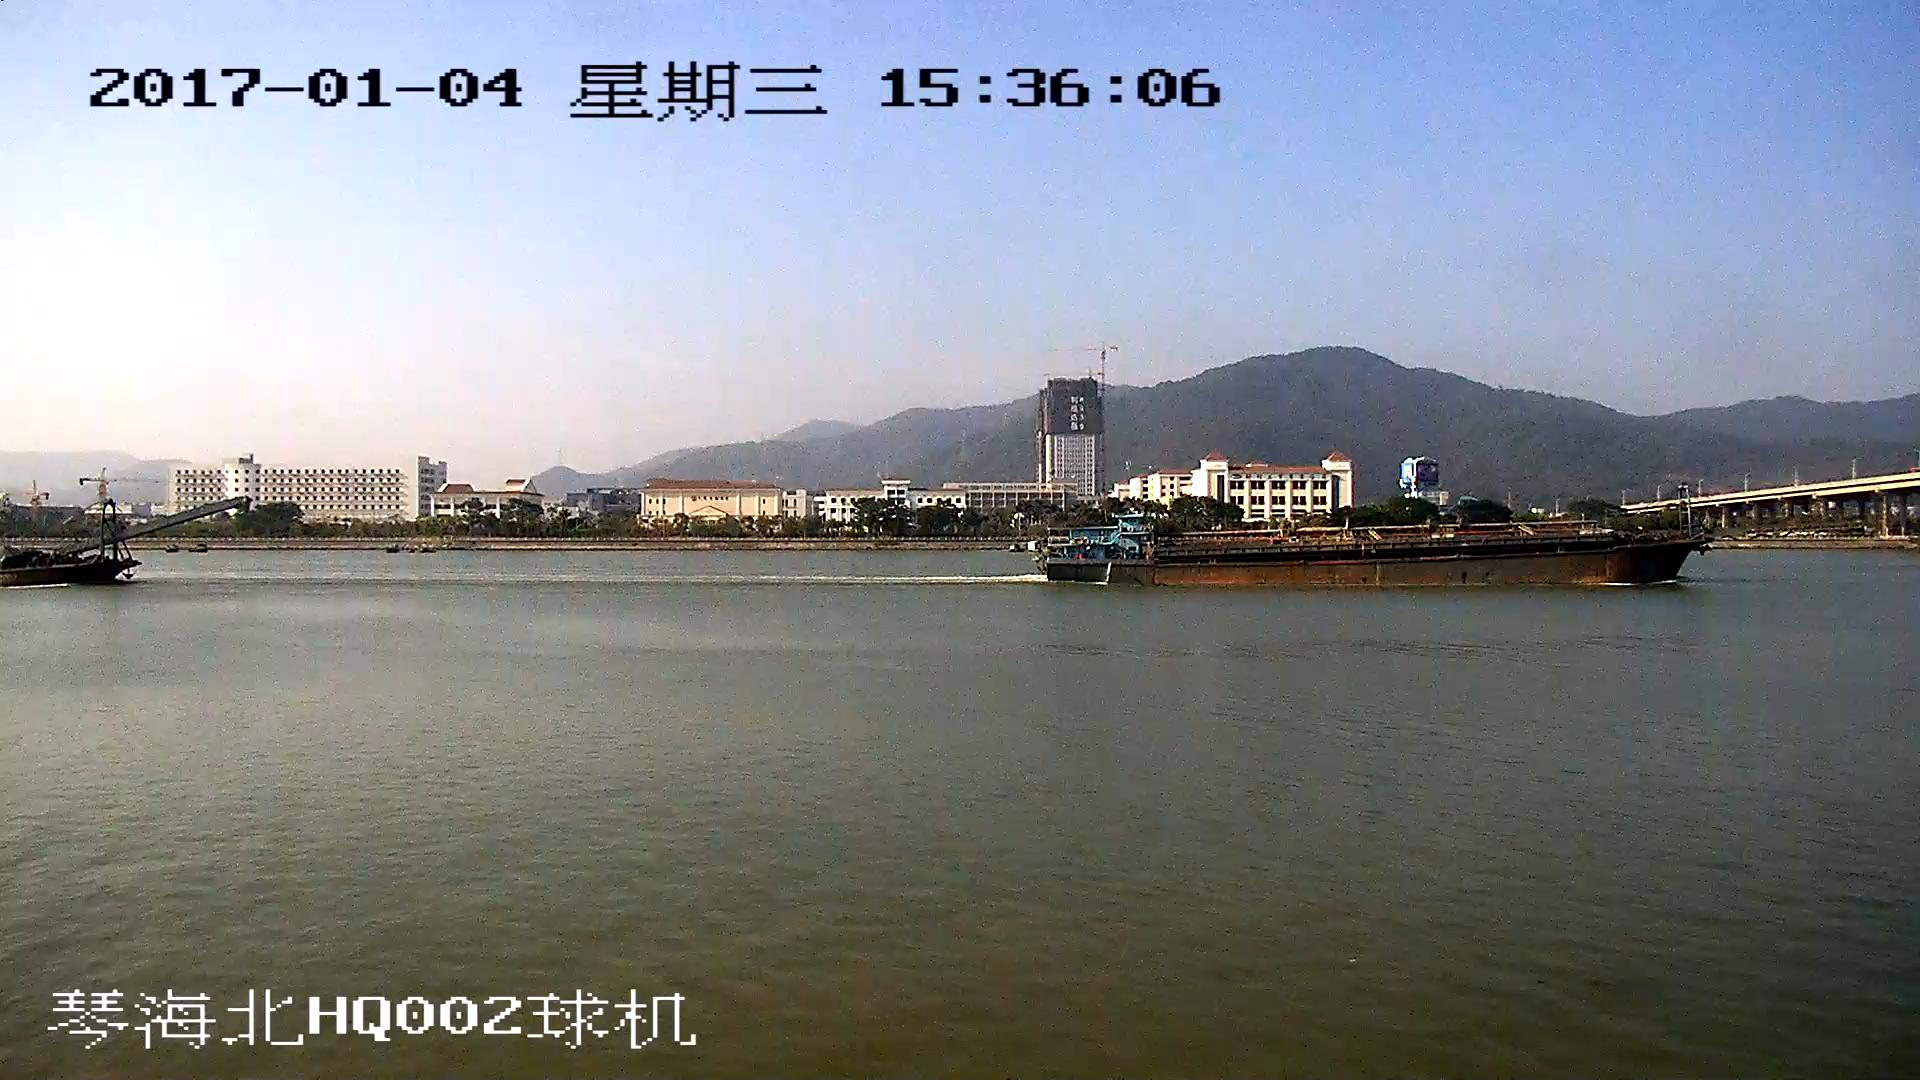bulk cargo carrier: (1038, 519, 1704, 584)
